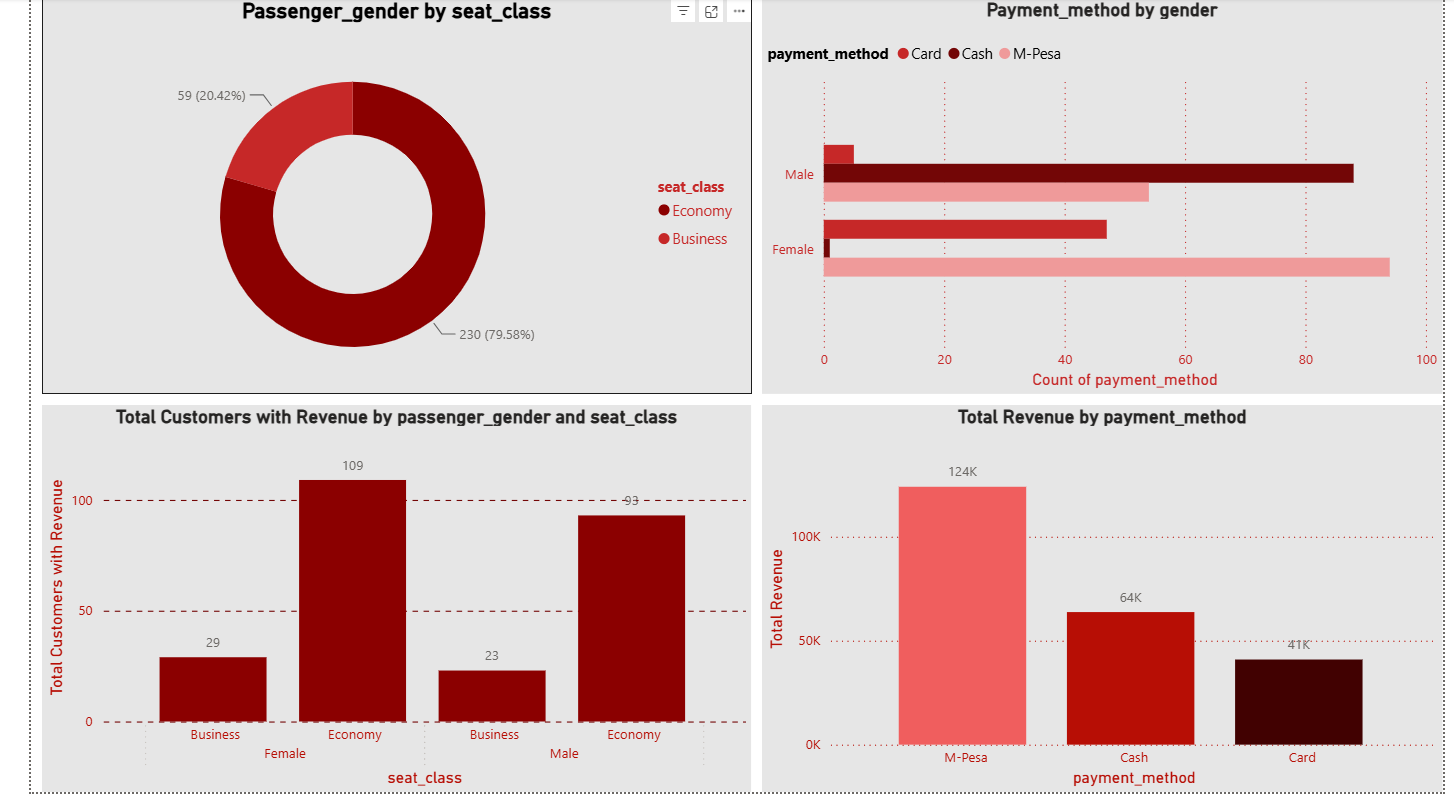

The page's visual inventory and layout, read from the dashboard file:
{"tool":"powerbi","page":{"name":"Payment_Method","canvas":[1280,720],"ordinal":1},"visuals":[{"type":"donutChart","title":" Passenger_gender by seat_class","fields":{"Category":["safariconnect v_clean_trips.seat_class"],"Y":["CountNonNull(safariconnect v_clean_trips.passenger_gender)"]},"box":[10.1,0,643.4,359.5],"z":0},{"type":"clusteredColumnChart","fields":{"Category":["safariconnect v_clean_trips.passenger_gender","safariconnect v_clean_trips.seat_class"],"Y":["safariconnect v_clean_trips.Total Customers with Revenue"]},"box":[10,369,643,351],"z":1000},{"type":"clusteredBarChart","title":"Payment_method by gender","fields":{"Category":["safariconnect v_clean_trips.passenger_gender"],"Series":["safariconnect v_clean_trips.payment_method"],"Y":["CountNonNull(safariconnect v_clean_trips.payment_method)"]},"box":[663,0,617,359],"z":2000},{"type":"clusteredColumnChart","fields":{"Category":["safariconnect v_clean_trips.payment_method"],"Y":["safariconnect v_clean_trips.Total Revenue"]},"box":[663,369,617,351],"z":3000}]}

Visuals, with their boxes in screenshot pixels (x1, y1, x2, y2), scaled from the page's 1280x720 canvas onto the 1454x798 screenshot:
" Passenger_gender by seat_class" donutChart: {"left": 11, "top": 0, "right": 742, "bottom": 398}
clusteredColumnChart - safariconnect v_clean_trips.passenger_gender x safariconnect v_clean_trips.seat_class: {"left": 11, "top": 409, "right": 742, "bottom": 797}
"Payment_method by gender" clusteredBarChart: {"left": 753, "top": 0, "right": 1453, "bottom": 398}
clusteredColumnChart - safariconnect v_clean_trips.payment_method x safariconnect v_clean_trips.Total Revenue: {"left": 753, "top": 409, "right": 1453, "bottom": 797}
